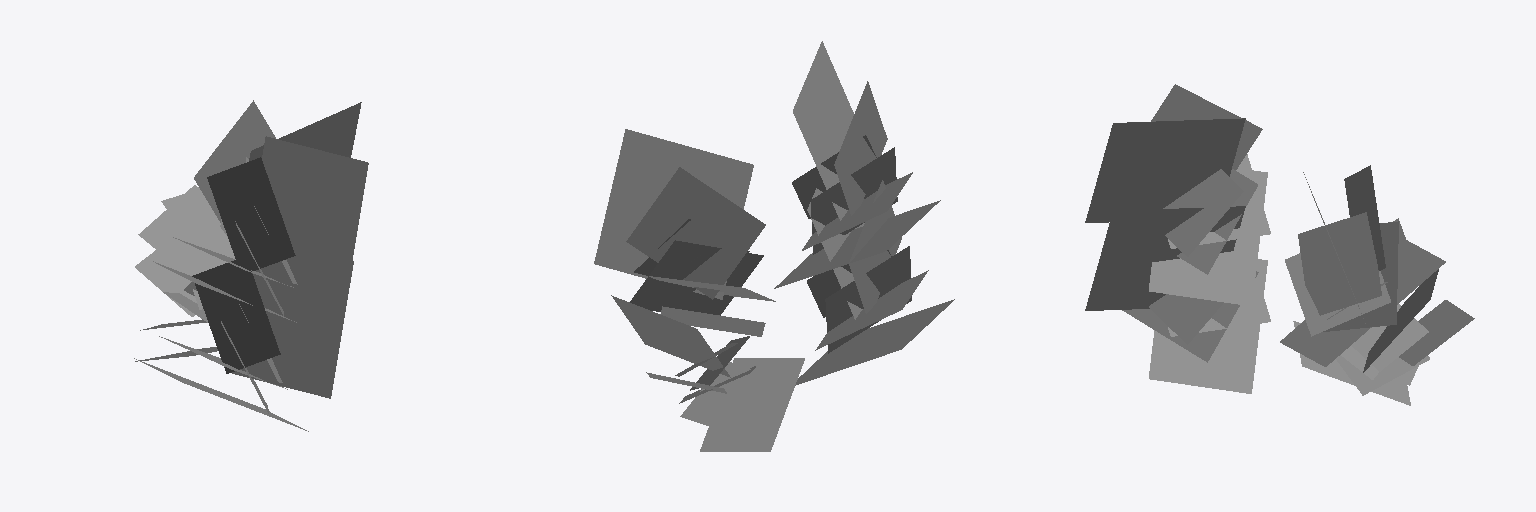
Rendered from boomvoortakken.obj.
The picture shows the model from 3 angles: view 1: azimuth 30°, elevation 25°; view 2: azimuth 150°, elevation 25°; view 3: azimuth 270°, elevation 25°; orthographic projection.
Parts seen in each view (by area): view 1: boomlinkstak006, boomlinkstak019, boomlinkstak01, boomlinkstak020, boomlinkstak008, boomlinkstak011, boomlinkstak007, boomlinkstak012, boomlinkstak014, boomlinkstak024; view 2: boomlinkstak007, boomlinkstak008, boomlinkstak006, boomlinkstak010, boomlinkstak017, boomlinkstak018, boomlinkstak024, boomlinkstak01, boomlinkstak013, boomlinkstak05, boomlinkstak022, boomlinkstak03 (+9 smaller); view 3: boomlinkstak006, boomlinkstak019, boomlinkstak009, boomlinkstak024, boomlinkstak05, boomlinkstak012, boomlinkstak02, boomlinkstak01, Plane024, boomlinkstak010, boomlinkstak021, boomlinkstak014 (+10 smaller).
Boxes of the visible parts, <box> form: boomlinkstak006: <box>252,136,368,299</box>; boomlinkstak019: <box>232,261,353,398</box>; boomlinkstak01: <box>207,157,295,270</box>; boomlinkstak020: <box>192,256,280,373</box>; boomlinkstak008: <box>194,100,275,222</box>; boomlinkstak011: <box>161,189,235,268</box>; boomlinkstak007: <box>249,102,361,160</box>; boomlinkstak012: <box>138,185,208,275</box>; boomlinkstak014: <box>135,250,196,316</box>; boomlinkstak024: <box>134,358,308,431</box>; boomlinkstak007: <box>594,129,753,299</box>; boomlinkstak008: <box>626,167,765,299</box>; boomlinkstak006: <box>793,41,853,220</box>; boomlinkstak010: <box>630,240,763,315</box>; boomlinkstak017: <box>680,362,784,436</box>; boomlinkstak018: <box>700,358,804,451</box>; boomlinkstak024: <box>795,299,954,385</box>; boomlinkstak01: <box>834,81,887,215</box>; boomlinkstak013: <box>611,295,730,377</box>; boomlinkstak05: <box>774,200,940,288</box>; boomlinkstak022: <box>825,246,911,353</box>; boomlinkstak03: <box>811,147,897,254</box>; boomlinkstak006: <box>1085,118,1245,222</box>; boomlinkstak019: <box>1085,206,1245,310</box>; boomlinkstak009: <box>1298,212,1381,315</box>; boomlinkstak024: <box>1149,259,1267,393</box>; boomlinkstak05: <box>1149,170,1267,305</box>; boomlinkstak012: <box>1280,240,1445,366</box>; boomlinkstak02: <box>1163,169,1243,256</box>; boomlinkstak01: <box>1151,84,1262,169</box>; Plane024: <box>1285,253,1390,336</box>; boomlinkstak010: <box>1323,221,1398,331</box>; boomlinkstak021: <box>1149,294,1223,344</box>; boomlinkstak014: <box>1399,300,1474,365</box>.
Bounding box in the file's own units: 7.87 × 8.58 × 10.19.